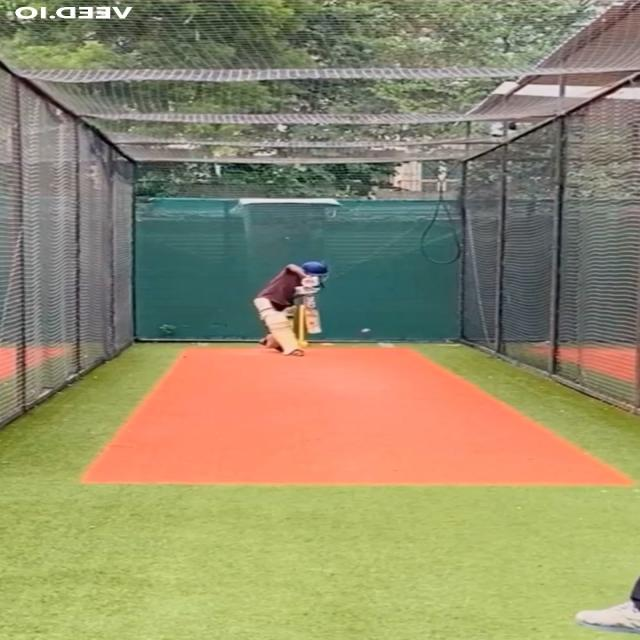ball: (360, 328, 371, 334)
